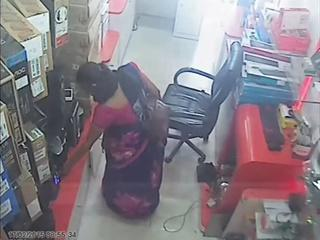Normal: (57, 62, 148, 179)
